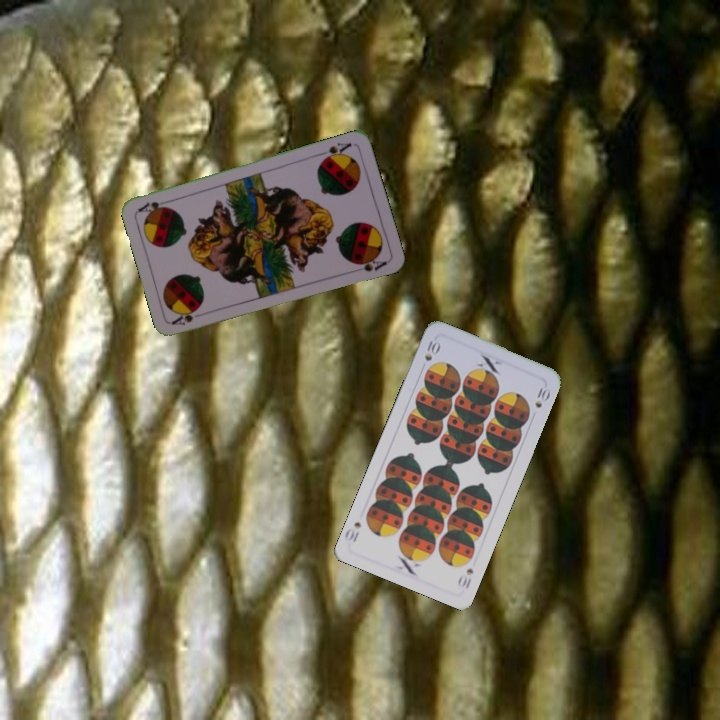S10: (420, 336, 443, 364), (454, 564, 476, 591)
SA: (315, 138, 354, 164), (168, 306, 200, 328)
